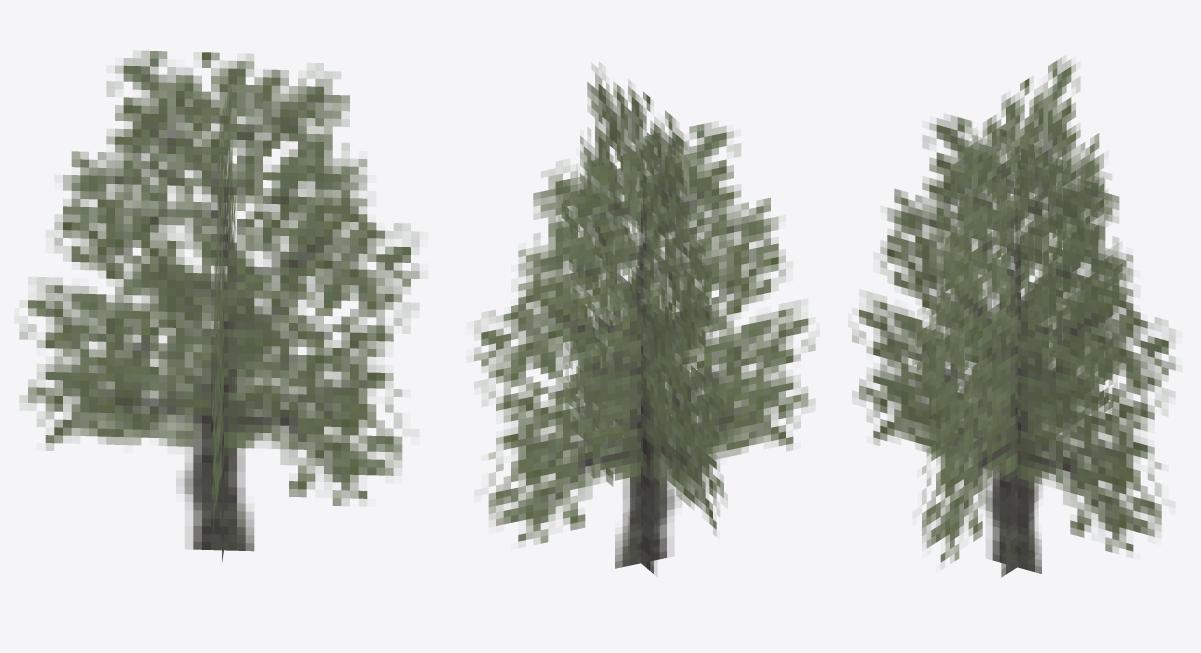
The model's file is tree-large.002_lev3.glb.
3 views of the same model, side by side, from view 1: azimuth 30°, elevation 25°; view 2: azimuth 150°, elevation 25°; view 3: azimuth 270°, elevation 25° (orthographic). The views are drawn at different scales.
Visible parts, largest first — view 1: tree-large.002_lev3; view 2: tree-large.002_lev3; view 3: tree-large.002_lev3.
Part boxes in pixels (x1,y1,x2,y2): tree-large.002_lev3: (19,51,419,562); tree-large.002_lev3: (474,62,815,575); tree-large.002_lev3: (852,56,1175,577).
Size of the model in its own units: 6.6 by 10.36 by 6.6.
1 material, 1 textured.
